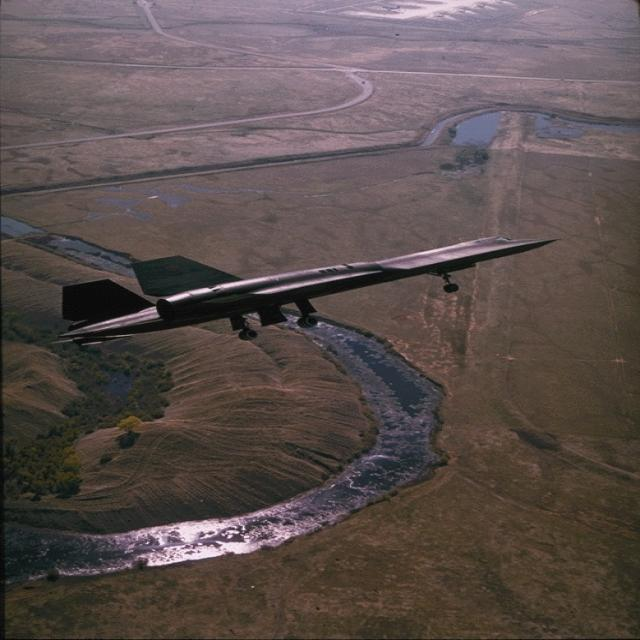MIL_Plane: (49, 236, 564, 347)
